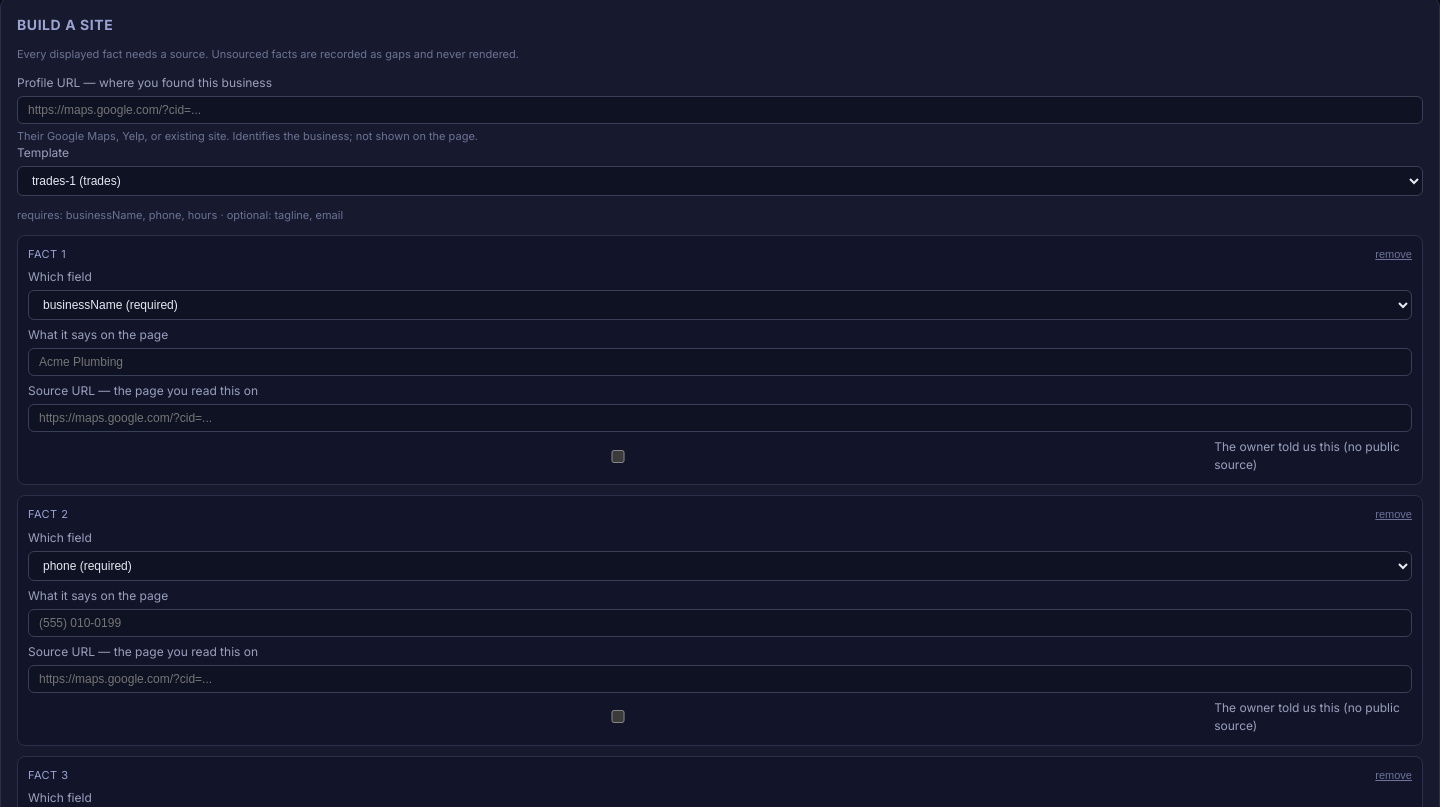
Test case: site builder › surfaces a failed request
The image size is (1440, 807).
Type "https://maps.example/acme" into the field with test id "profile-url" at (720, 110), box [17, 96, 1423, 124]
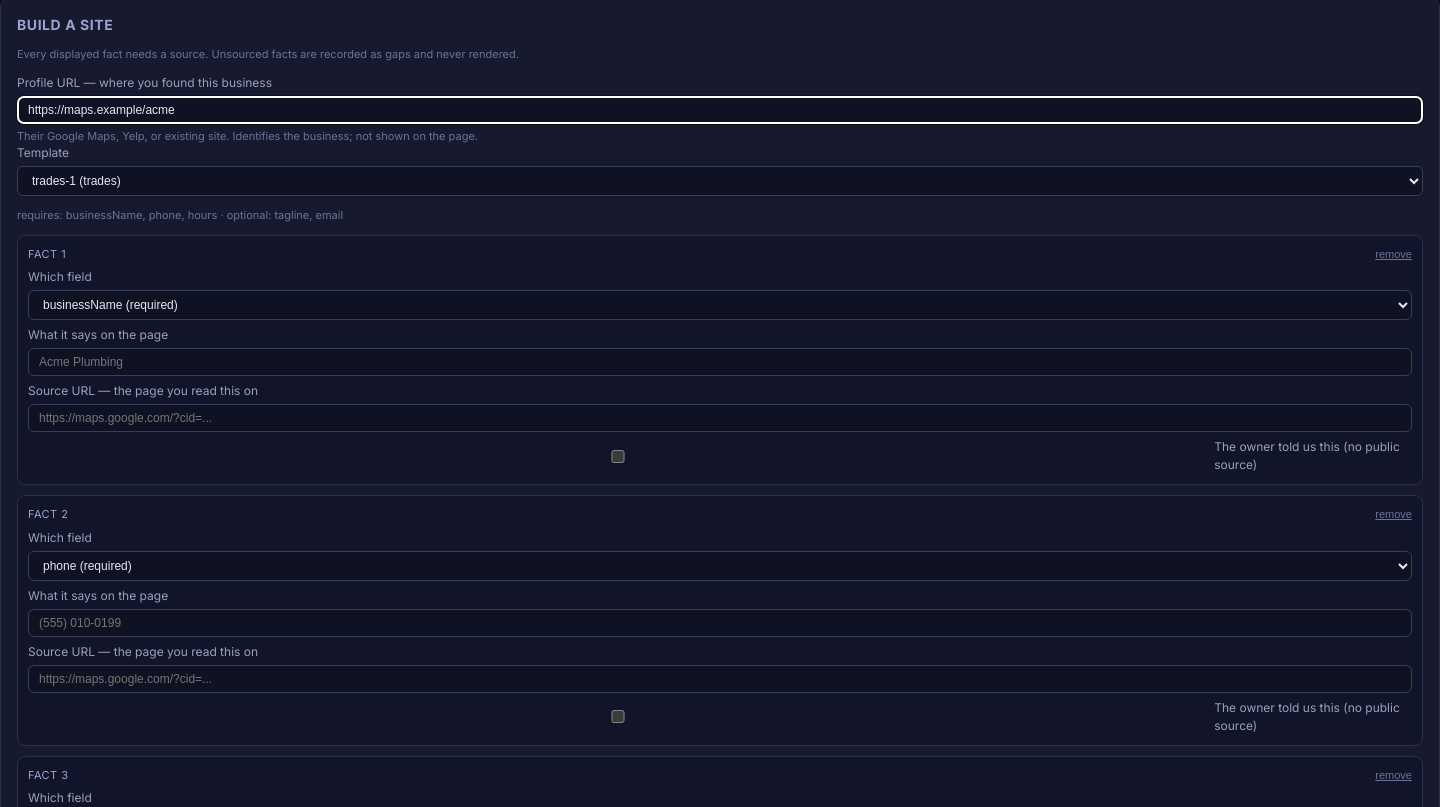
Type "Acme" into the 1st field labelled "What it says on the page" at (720, 362), box [28, 348, 1412, 376]
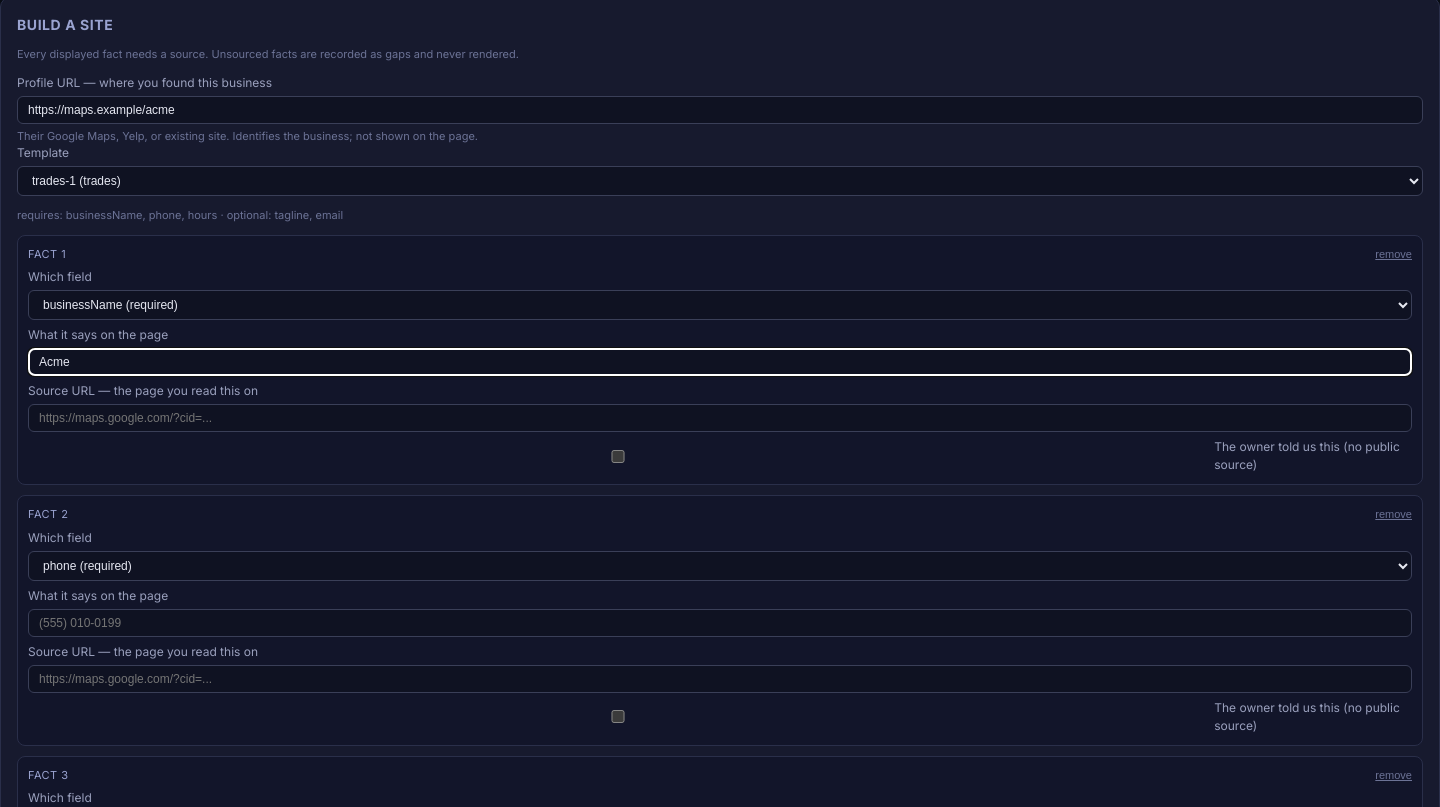
Type "https://maps.example/acme" into the field named "fact 1 source" at (720, 418), box [28, 404, 1412, 432]
(page scrolled)
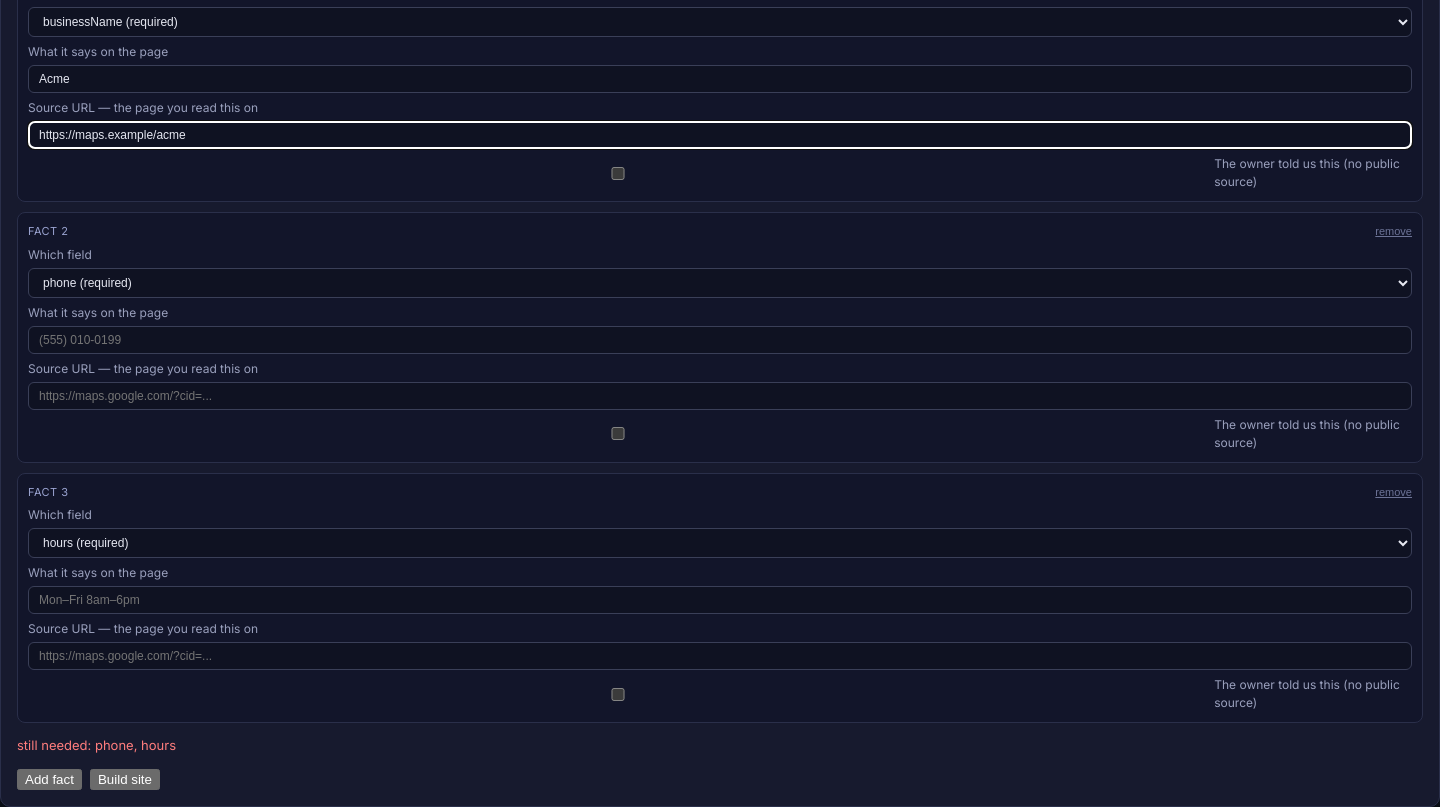
Click the button with test id "build-site" at (125, 779), box [90, 768, 160, 790]
(page scrolled)
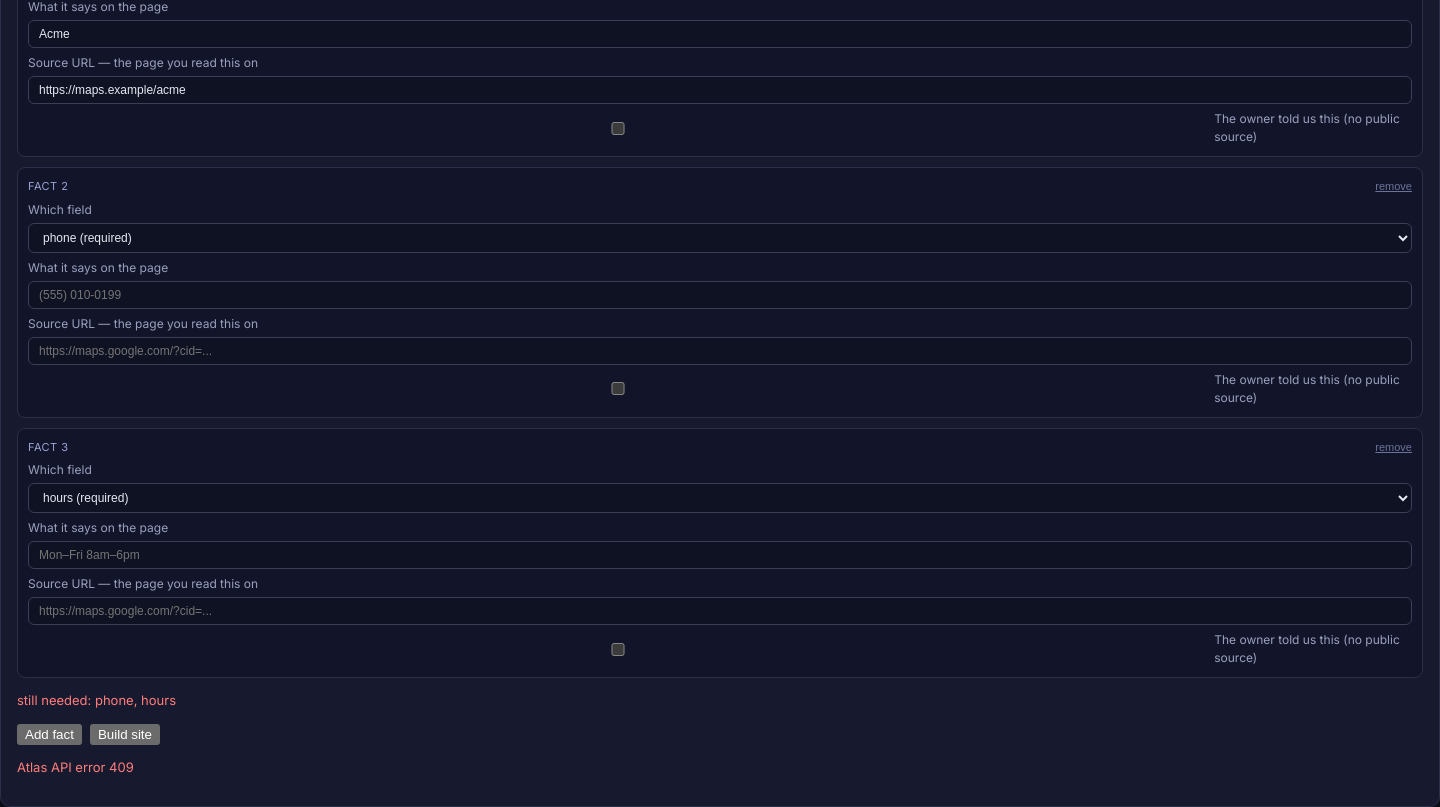
Expected: the message shows "409", [17, 758, 134, 774]
